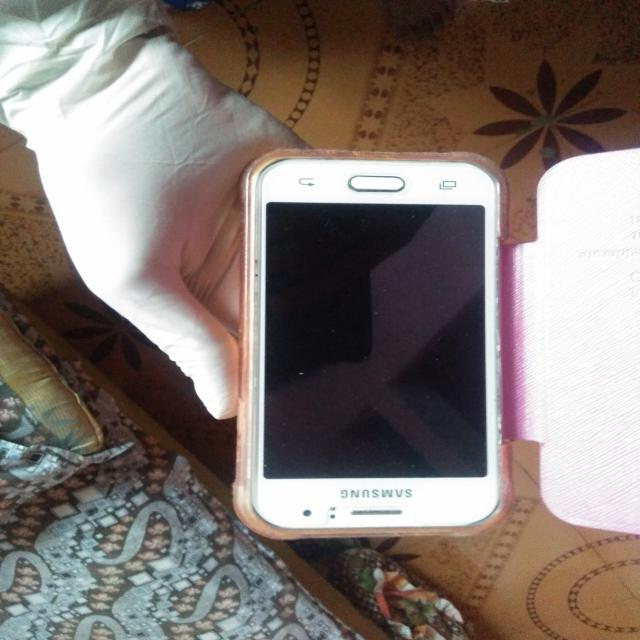gloved_hand: (2, 1, 320, 430)
